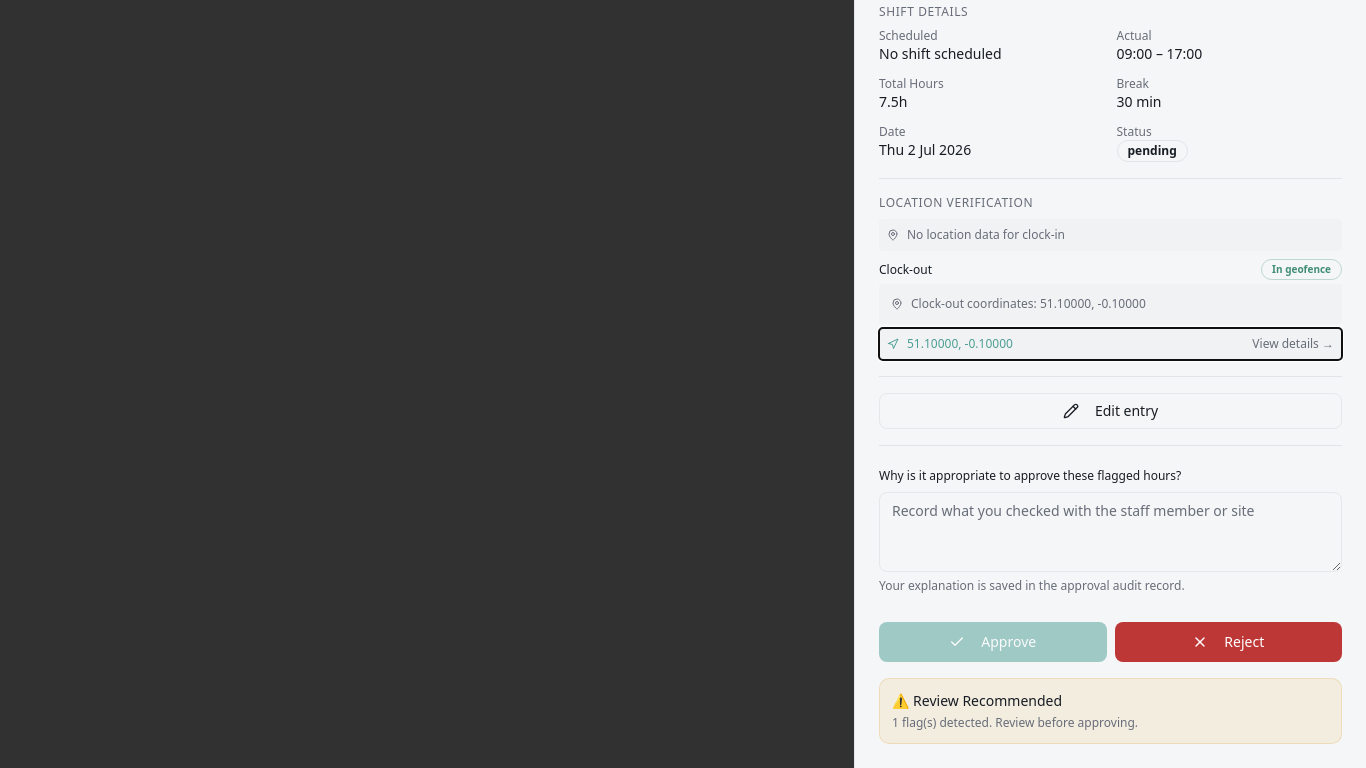
Test case: flagged timesheet review › requires a written reason and passes it with the approval
Later steps or results of the test are not shown.
(page scrolled)
Expected: the button "Approve" is disabled, top-left (879, 622), bottom-right (1106, 662)
Type "Confirmed shift with site manager" into the text box labelled "Why is it appropriate to approve these flagged hours?".
click(1110, 532); type("Confirmed shift with site manager")  # box top-left (879, 492), bottom-right (1342, 572)
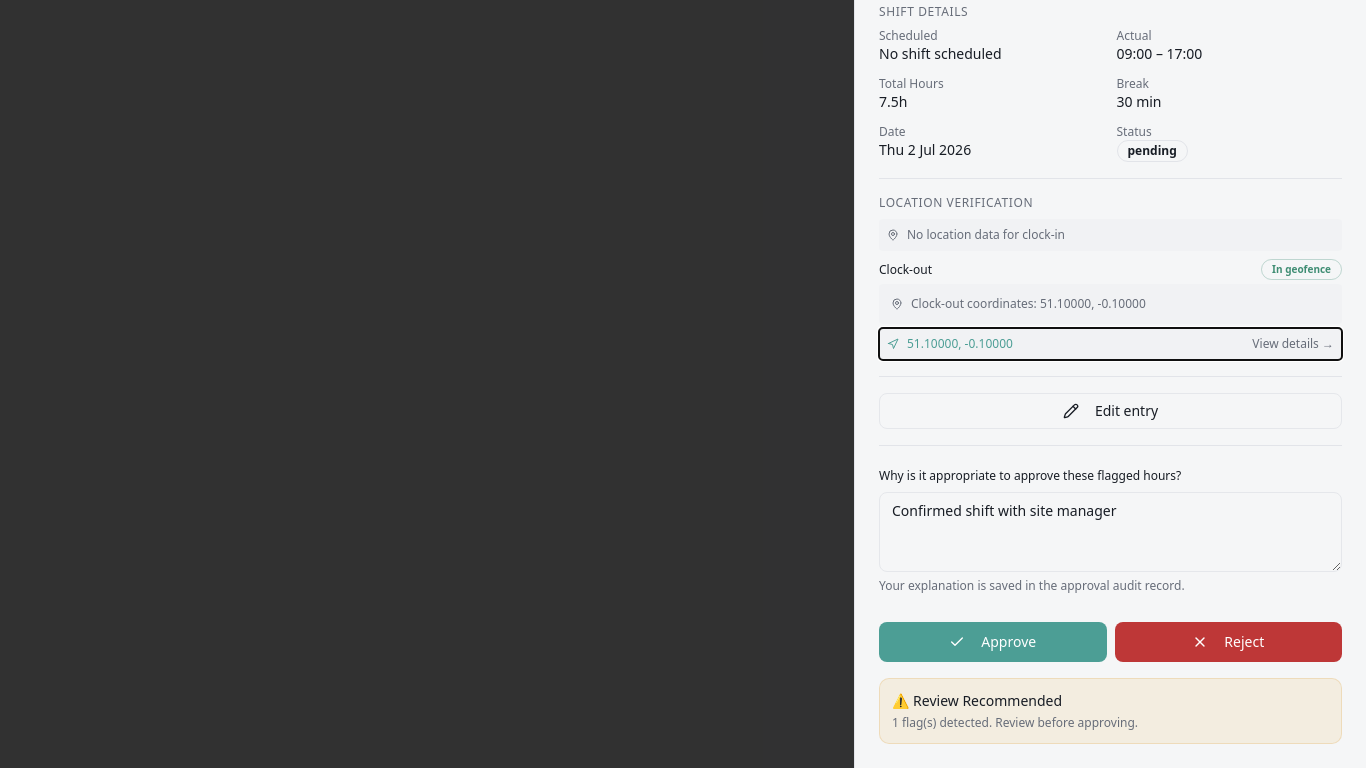
Expected: the button "Approve" is enabled, top-left (879, 622), bottom-right (1106, 662)
